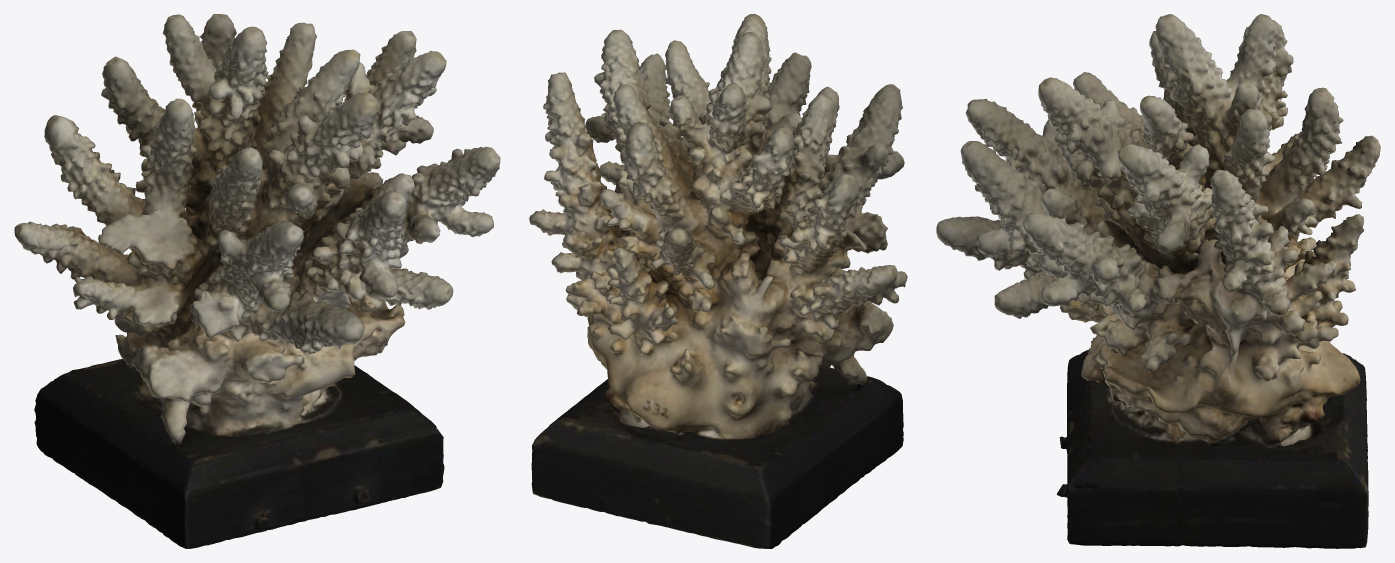
File: acropora-humilis.glb
The picture shows the model from 3 angles, left to right: view 1: azimuth 30°, elevation 25°; view 2: azimuth 150°, elevation 25°; view 3: azimuth 270°, elevation 25°; orthographic projection. The views are drawn at different scales.
Size of the model in its own units: 95.67 by 108 by 93.54.
Materials: 1 (1 with a texture image).
